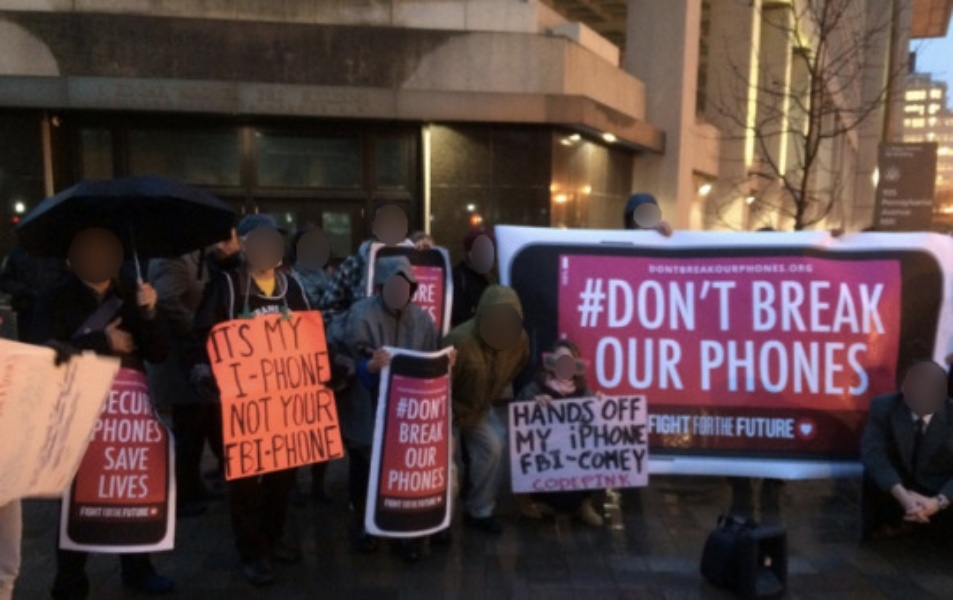text: (705, 338, 720, 398), (721, 338, 736, 398), (737, 338, 752, 398), (753, 338, 768, 398), (769, 338, 784, 398), (785, 338, 800, 398), (801, 338, 816, 398), (817, 338, 832, 398), (833, 338, 848, 398), (849, 338, 864, 398), (753, 279, 768, 336), (769, 279, 784, 336), (785, 279, 800, 336), (801, 279, 816, 336), (817, 279, 832, 336), (833, 279, 848, 336), (849, 279, 864, 336), (865, 279, 880, 336), (593, 336, 608, 391), (609, 336, 624, 391), (625, 336, 640, 391), (641, 336, 656, 391), (657, 336, 672, 391), (225, 424, 240, 479), (241, 424, 256, 479), (257, 424, 272, 479), (273, 424, 288, 479), (289, 424, 304, 479), (305, 424, 320, 479), (321, 424, 336, 479), (593, 278, 608, 332), (609, 278, 624, 332), (625, 278, 640, 332), (641, 278, 656, 332), (657, 278, 672, 332), (673, 278, 688, 332), (689, 278, 704, 332), (705, 278, 720, 332), (721, 278, 736, 332), (241, 350, 256, 401), (257, 350, 272, 401), (273, 350, 288, 401), (289, 350, 304, 401), (305, 350, 320, 401), (209, 318, 224, 366), (225, 318, 240, 366), (241, 318, 256, 366), (226, 350, 240, 401), (579, 278, 592, 332), (241, 396, 256, 436), (257, 396, 272, 436), (289, 389, 304, 429), (305, 389, 320, 429), (273, 315, 288, 353), (289, 315, 304, 353), (321, 350, 332, 401), (673, 336, 683, 391), (321, 389, 334, 429), (529, 443, 544, 477), (545, 443, 560, 477), (561, 443, 576, 477), (577, 443, 592, 477), (593, 443, 608, 477), (609, 443, 624, 477), (625, 443, 640, 477), (401, 465, 416, 495), (417, 465, 432, 495), (625, 396, 641, 424), (513, 399, 528, 428), (529, 399, 544, 428), (545, 399, 560, 428), (561, 399, 576, 428), (577, 399, 592, 428), (433, 394, 449, 421), (433, 465, 447, 495), (609, 396, 624, 424), (529, 426, 544, 454), (401, 394, 416, 421), (417, 394, 432, 421), (129, 392, 145, 417), (230, 396, 240, 436), (113, 417, 128, 443), (129, 417, 144, 443), (145, 417, 160, 443), (113, 447, 128, 473), (129, 447, 144, 473), (401, 421, 416, 447), (417, 421, 432, 447), (262, 315, 272, 353), (113, 392, 128, 417), (113, 475, 128, 500), (129, 475, 144, 500), (417, 281, 432, 306), (577, 424, 592, 449), (593, 424, 608, 449), (609, 424, 624, 449), (625, 424, 640, 449), (698, 338, 704, 398), (865, 338, 871, 398), (279, 389, 288, 429), (417, 447, 432, 470), (518, 443, 528, 477), (516, 426, 528, 454), (657, 413, 672, 435), (673, 413, 688, 435), (389, 465, 400, 495), (737, 417, 752, 438), (753, 417, 768, 438), (769, 417, 784, 438), (433, 421, 445, 447), (403, 447, 416, 470), (721, 415, 735, 436), (881, 279, 886, 336), (101, 475, 112, 500), (545, 473, 560, 491), (561, 473, 576, 491), (577, 473, 592, 491), (593, 473, 608, 491), (609, 473, 624, 491), (641, 443, 648, 477), (103, 417, 112, 443), (692, 417, 704, 436), (567, 424, 576, 449), (337, 424, 341, 479), (532, 473, 544, 491), (385, 495, 400, 509), (401, 495, 416, 509), (417, 495, 432, 509), (785, 417, 795, 438), (881, 186, 896, 200), (897, 186, 912, 200), (913, 186, 928, 200), (897, 145, 912, 159), (601, 396, 608, 424), (81, 505, 96, 518), (97, 505, 112, 518), (113, 505, 128, 518), (129, 505, 144, 518), (883, 145, 896, 159), (648, 413, 656, 435), (433, 281, 440, 306), (545, 426, 551, 454), (913, 145, 925, 159), (657, 263, 672, 274), (673, 263, 688, 274), (689, 263, 704, 274), (705, 263, 720, 274), (721, 263, 736, 274), (737, 263, 752, 274), (753, 263, 768, 274), (769, 263, 784, 274), (785, 263, 800, 274), (106, 447, 112, 473), (145, 447, 151, 473), (705, 417, 713, 436), (881, 216, 896, 226), (145, 505, 156, 518), (433, 495, 443, 509), (897, 198, 912, 207), (913, 198, 928, 207), (625, 473, 632, 491), (641, 424, 646, 449), (801, 263, 812, 274), (883, 198, 896, 207), (433, 447, 438, 470), (715, 415, 720, 436), (881, 207, 896, 214), (145, 475, 149, 500), (897, 207, 911, 214), (689, 413, 692, 435), (650, 263, 656, 274), (593, 399, 595, 428), (398, 394, 400, 421), (161, 417, 163, 443), (76, 505, 80, 518), (110, 392, 112, 417), (207, 318, 208, 366), (929, 198, 934, 207), (273, 396, 274, 436), (305, 315, 306, 353), (929, 186, 931, 200), (399, 421, 400, 447), (897, 216, 899, 226), (383, 495, 384, 509), (879, 216, 880, 226), (879, 207, 880, 214)
